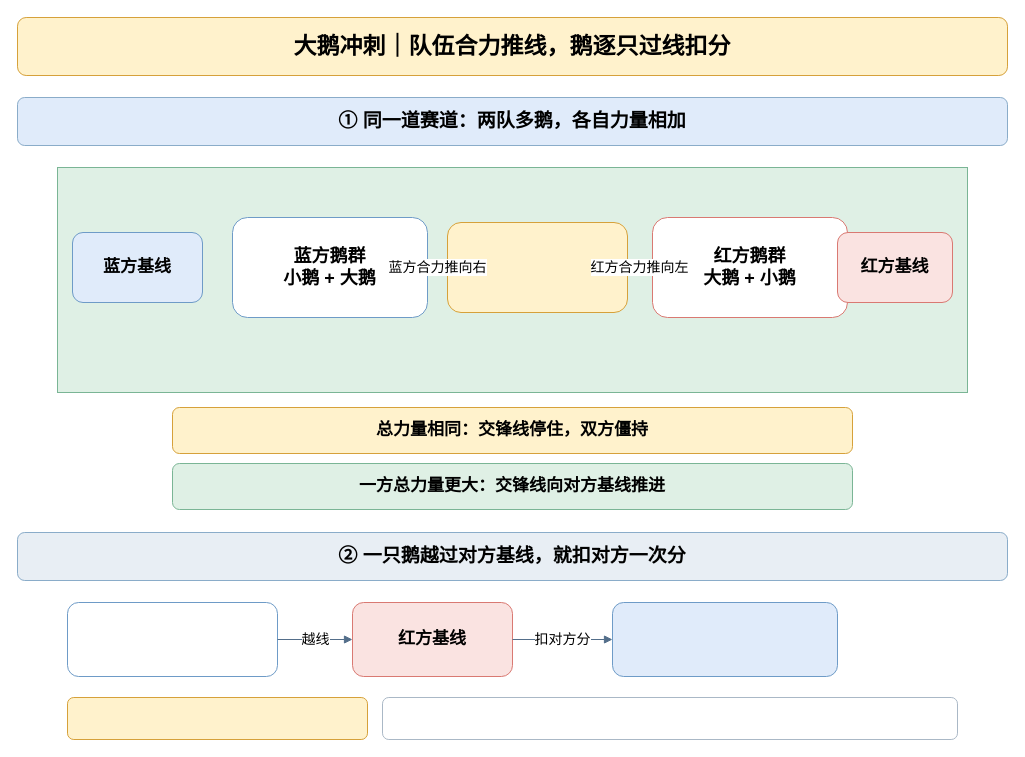
The diagram is 1025 pixels wide and 757 high, and some of its shapes have lost their labels. Here are the shapes that lost their labels. From the top down, the centre of each, then its label:
At point 537,267: "交锋线 （推线前沿）".
At point 172,639: "蓝方一只鹅 冲过红方基线".
At point 725,639: "红方玩家分数 减少一次".
At point 217,718: "小鹅过线：扣分较多".
At point 670,718: "实际扣分按鹅型号计算；界面只显示双方当前总分，不显示单鹅属性数值。".
